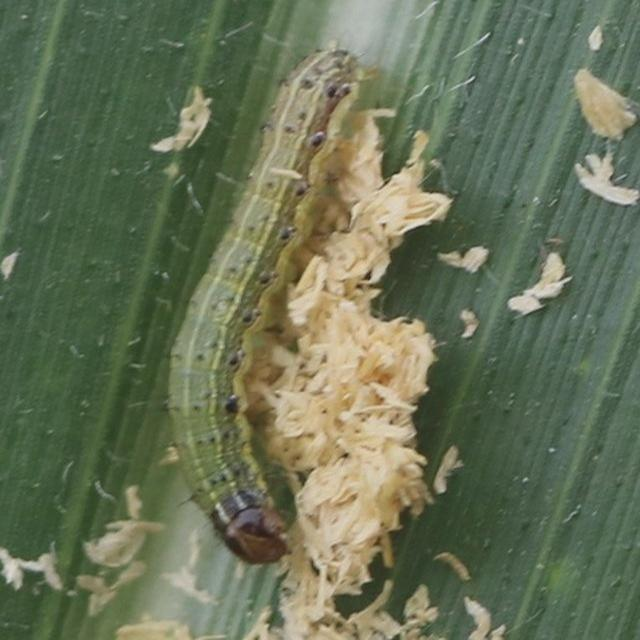gusano_cogollero: (158, 44, 370, 568)
